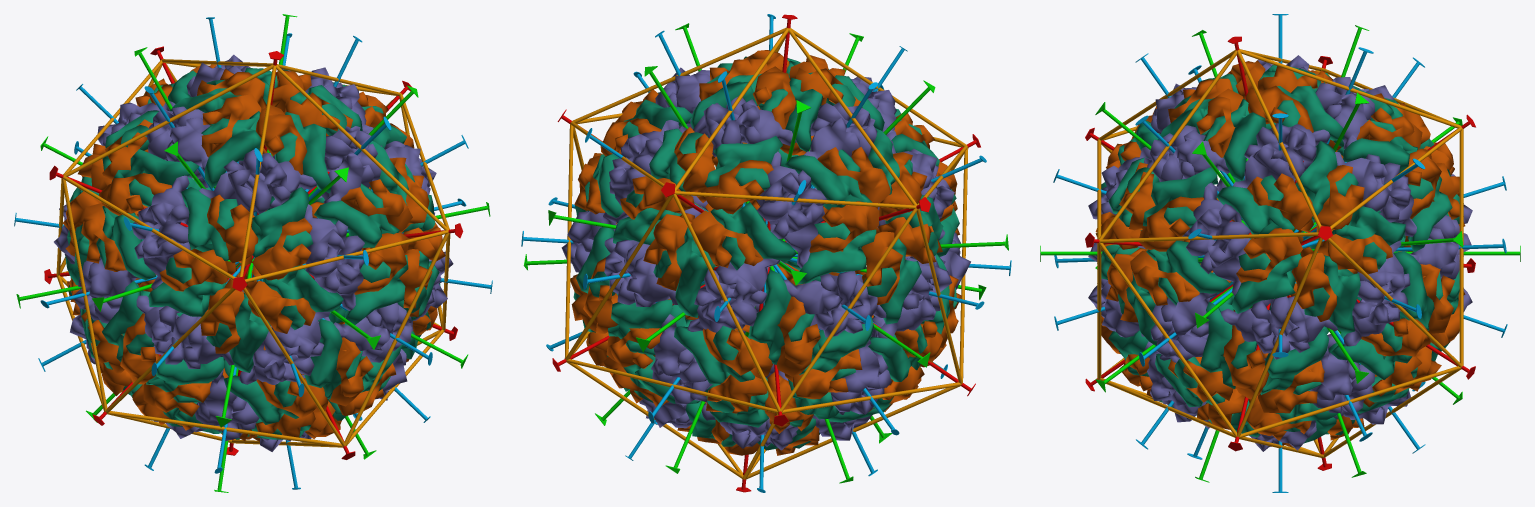
3 renders of one model, left to right at view 1: azimuth 30°, elevation 25°; view 2: azimuth 150°, elevation 25°; view 3: azimuth 270°, elevation 25°, orthographic. The views are drawn at different scales.
Size of the model in its own units: 336 by 332 by 336.
